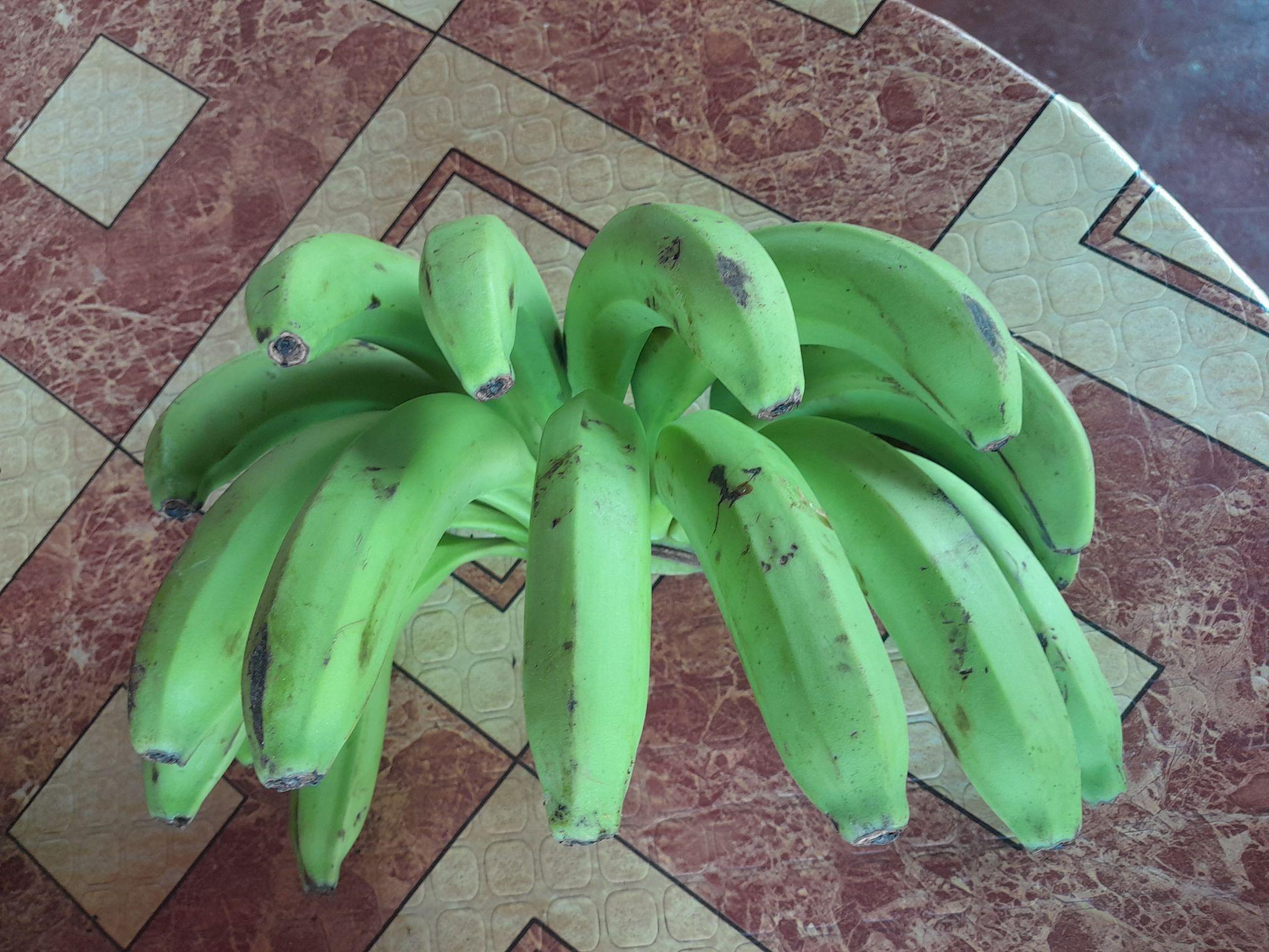Banana Unripe: (761, 417, 1081, 849), (243, 394, 535, 791), (654, 412, 910, 843), (129, 414, 382, 764), (902, 451, 1125, 803), (793, 347, 1096, 585), (753, 223, 1021, 451), (144, 342, 441, 518), (565, 203, 803, 416), (245, 233, 461, 392), (290, 654, 392, 892), (1001, 347, 1096, 554), (419, 216, 520, 402), (141, 694, 245, 826)
